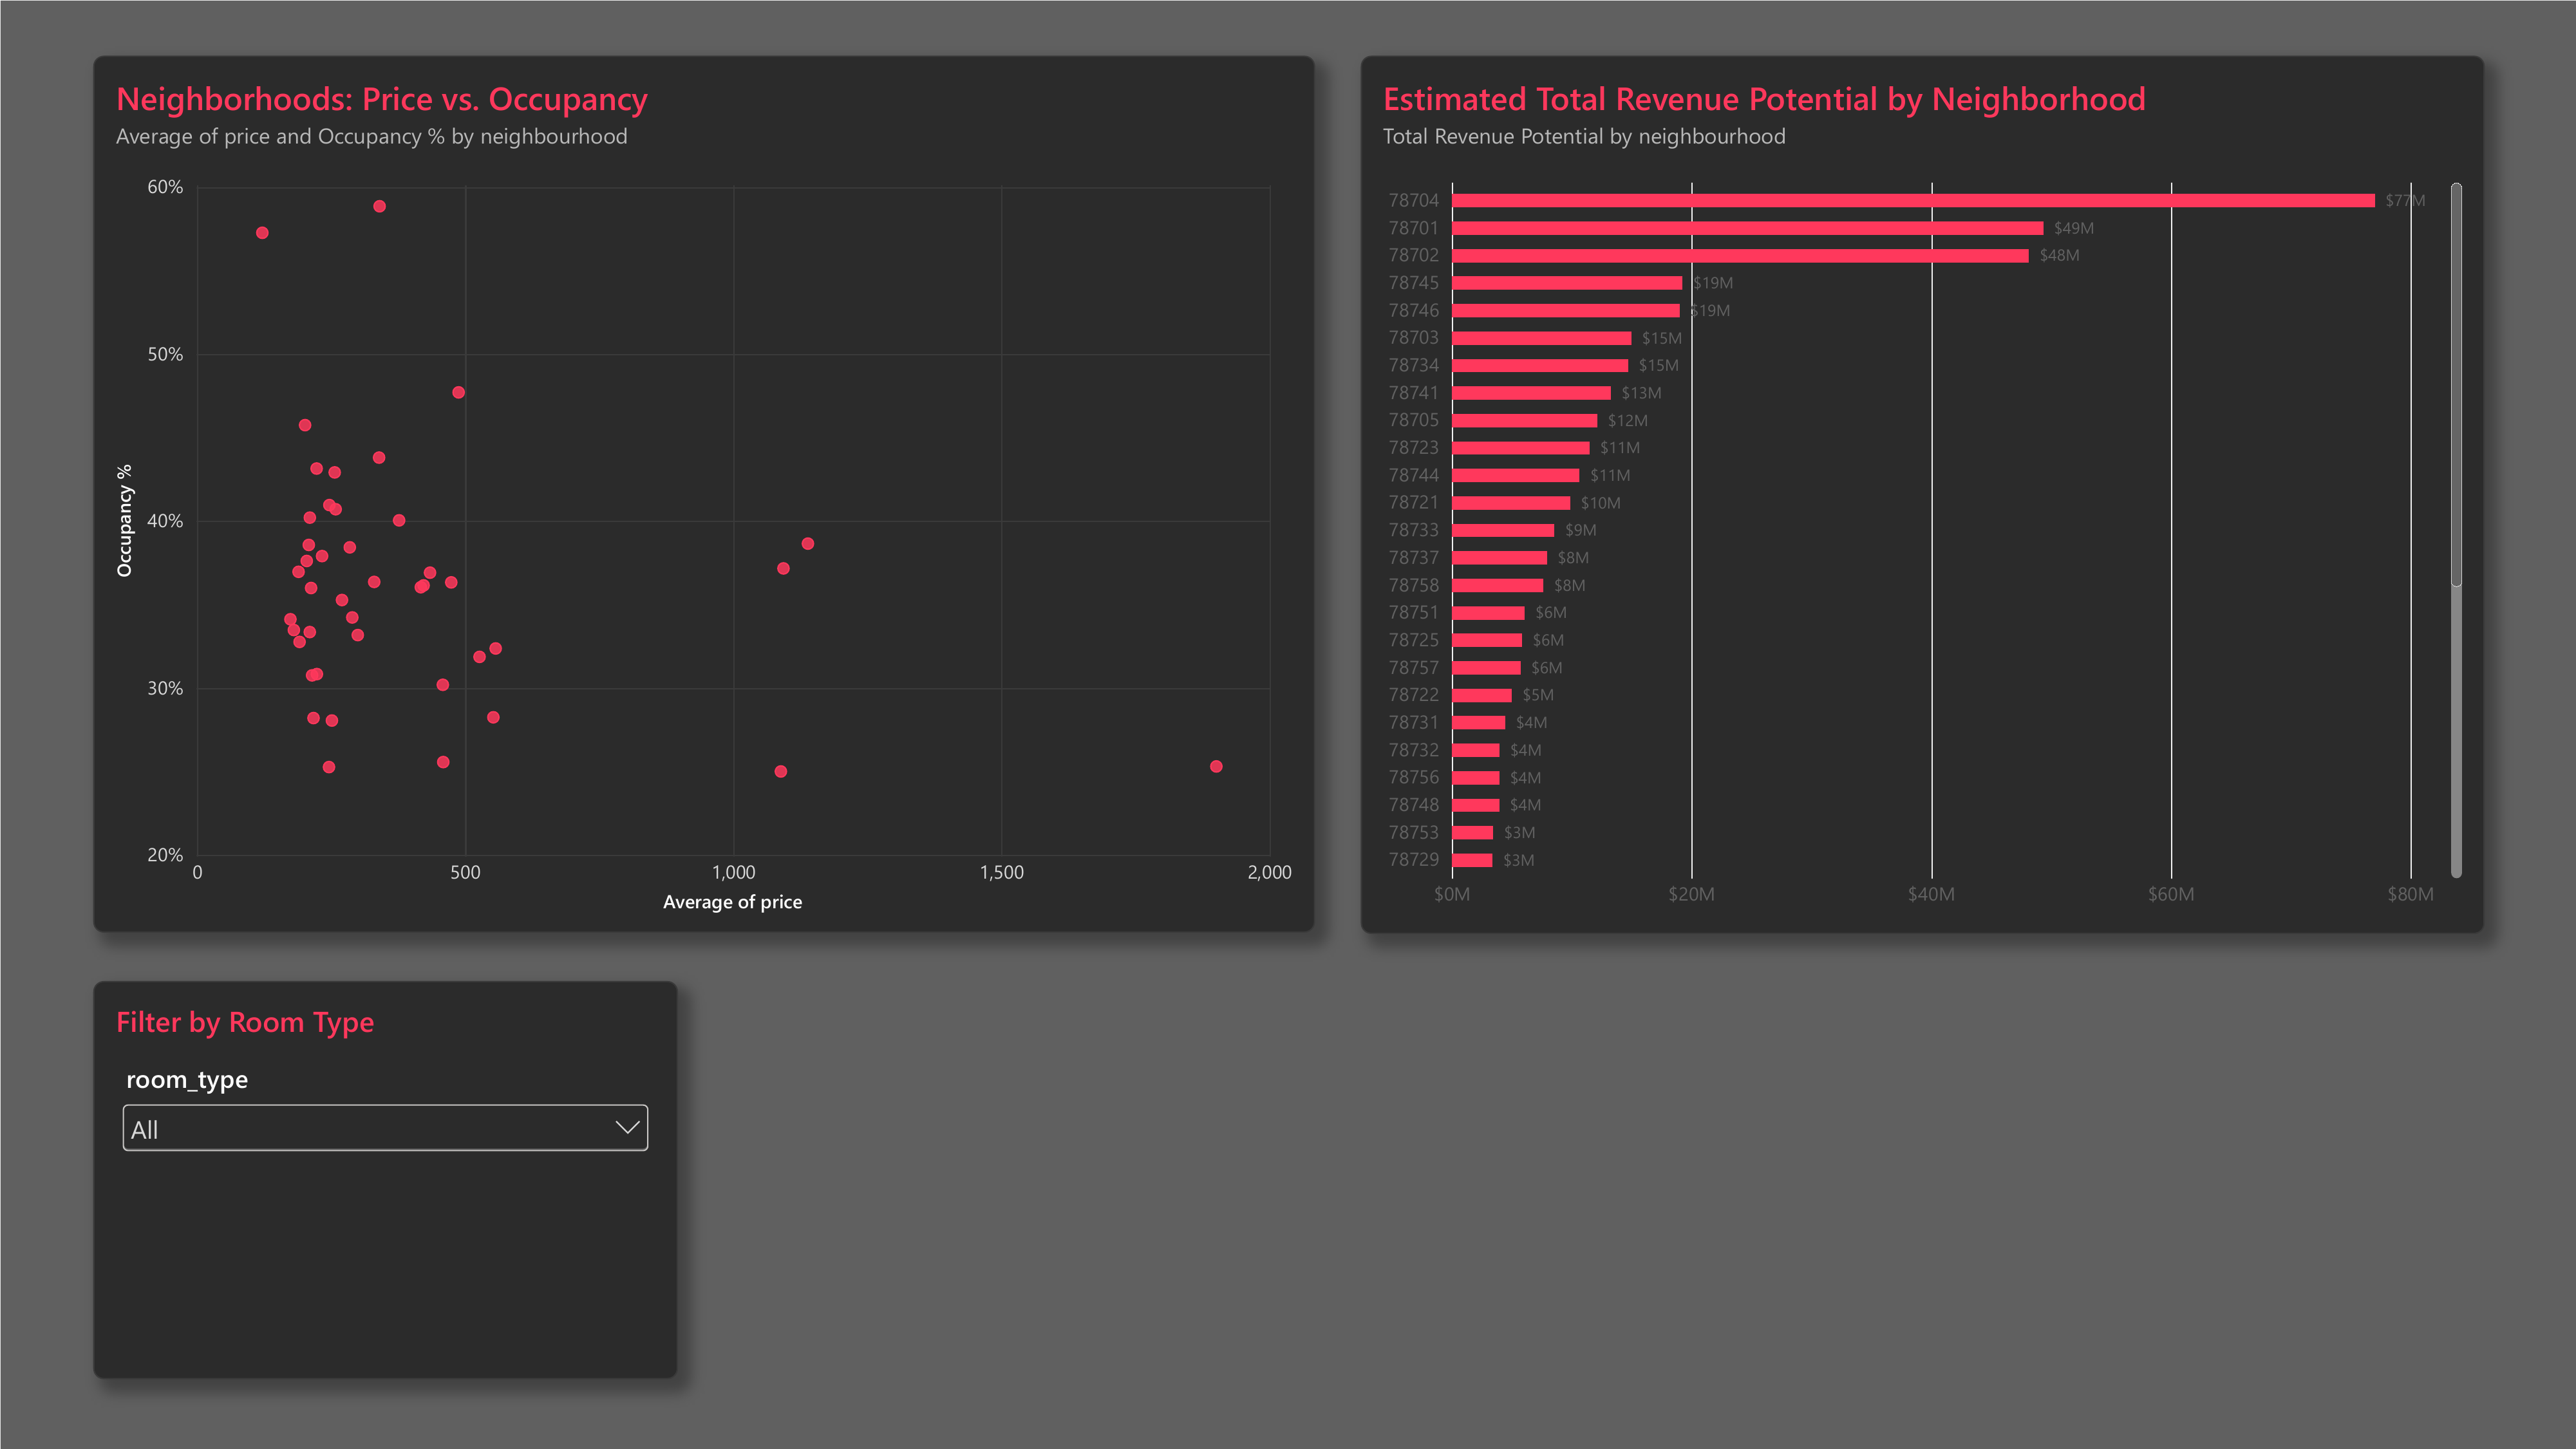

Layout of this report page (visuals, bound fields, positions):
{"tool":"powerbi","page":{"name":"Price vs. Occupancy","canvas":[1920,1080],"ordinal":3},"visuals":[{"type":"scatterChart","title":"Neighborhoods: Price vs. Occupancy","fields":{"Series":["public listings_clean.neighbourhood"],"X":["Avg(public listings_clean.price)"],"Y":["public calendar_clean.Occupancy %"]},"box":[69.1,40.5,910.9,654.4],"z":0},{"type":"clusteredBarChart","title":"Estimated Total Revenue Potential by Neighborhood","fields":{"Category":["public listings_clean.neighbourhood"],"Y":["public listings_clean.Total Revenue Potential"]},"box":[1013.8,40.5,838.5,655.1],"z":1000},{"type":"slicer","title":"Filter by Room Type","fields":{"Values":["public listings_clean.room_type"]},"box":[69.1,731.1,436.1,296.8],"z":1001}]}

Visuals, with their boxes in screenshot pixels (x1, y1, x2, y2), scaled from the page's 1920x1080 canvas onto the 2576x1449 screenshot:
"Neighborhoods: Price vs. Occupancy" scatterChart: x1=93, y1=54, x2=1315, y2=932
"Estimated Total Revenue Potential by Neighborhood" clusteredBarChart: x1=1360, y1=54, x2=2485, y2=933
"Filter by Room Type" slicer: x1=93, y1=981, x2=678, y2=1379
